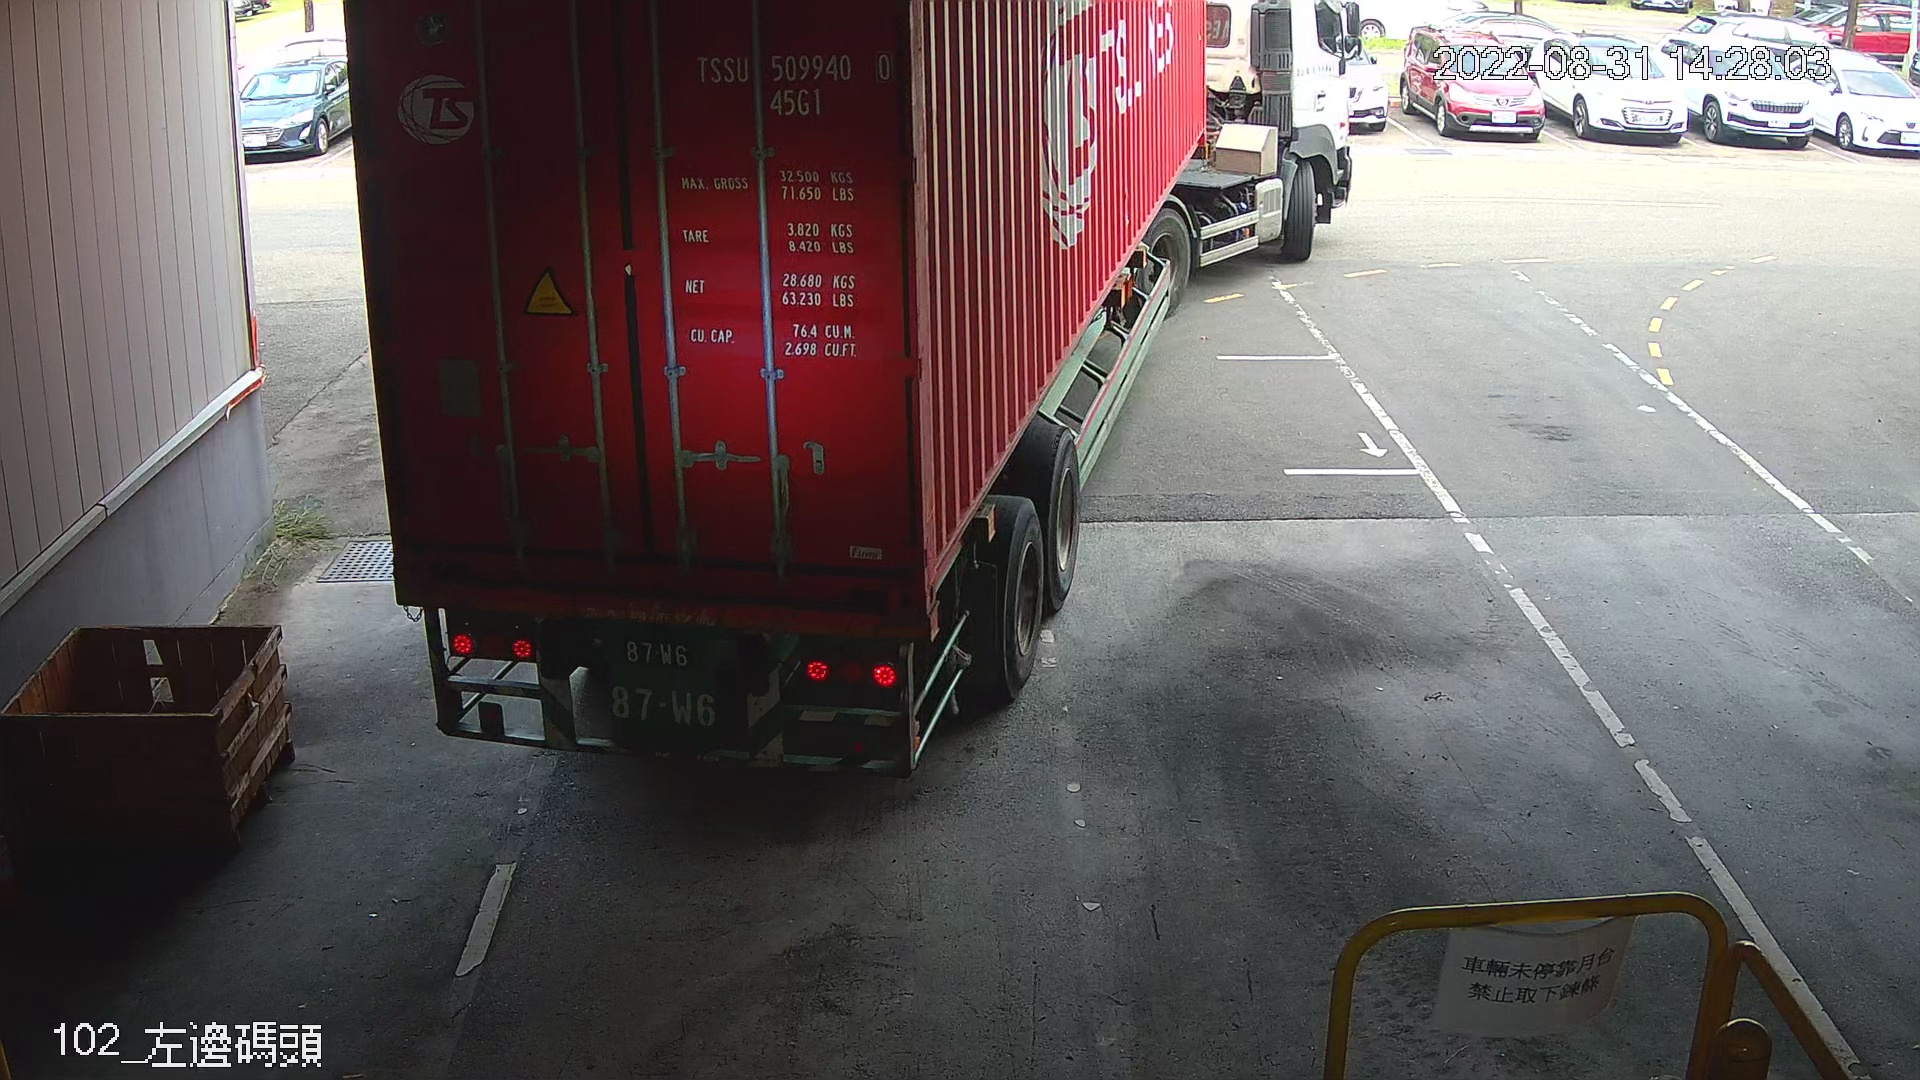container: (682, 36, 898, 127)
